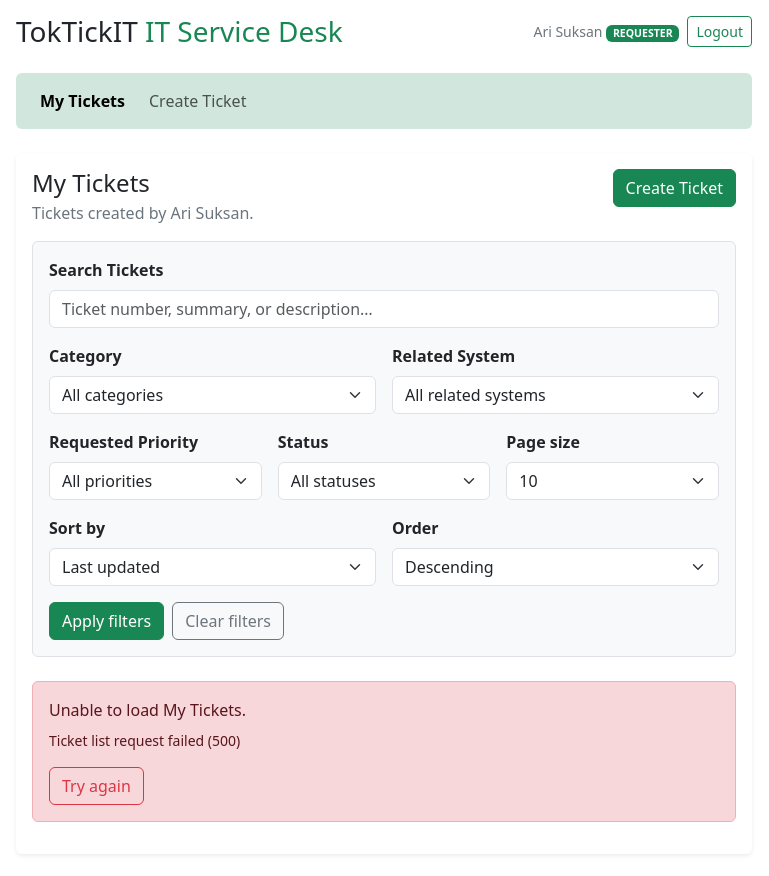
Test: My Tickets UI › shows a failure state and can retry the API request
Check: the heading "My Tickets" is shown, box [32,166,150,199]
Check: the message shows "Unable to load My Tickets", box [49,699,246,721]
Click the button "Try again" at (96, 786), box [49,767,144,805]
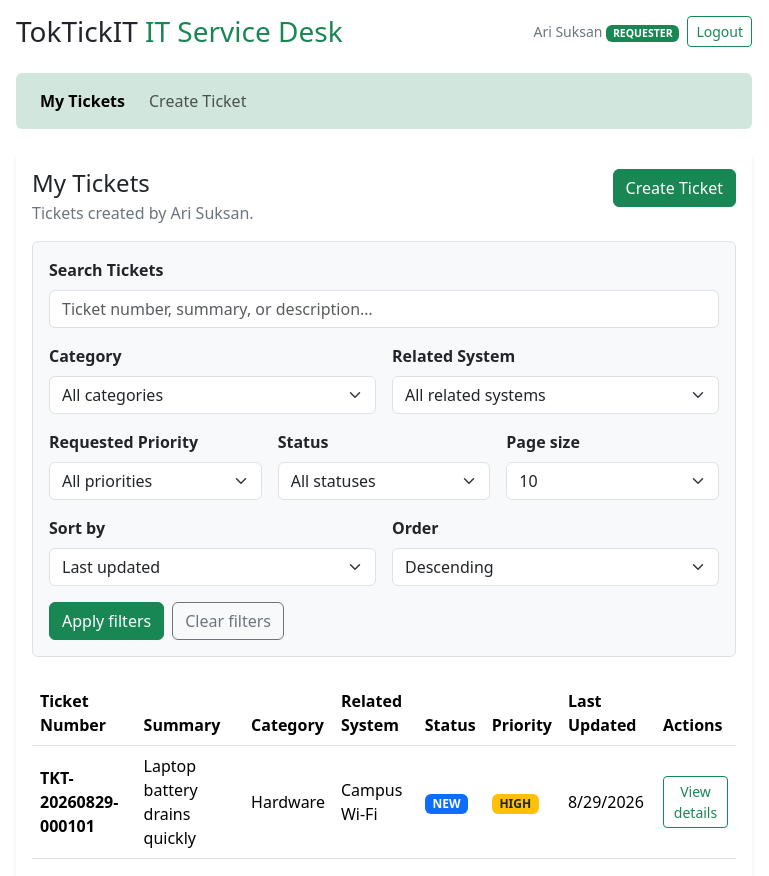
Check: the column heading "TKT-20260829-000101" is shown, box [32,746,136,859]
